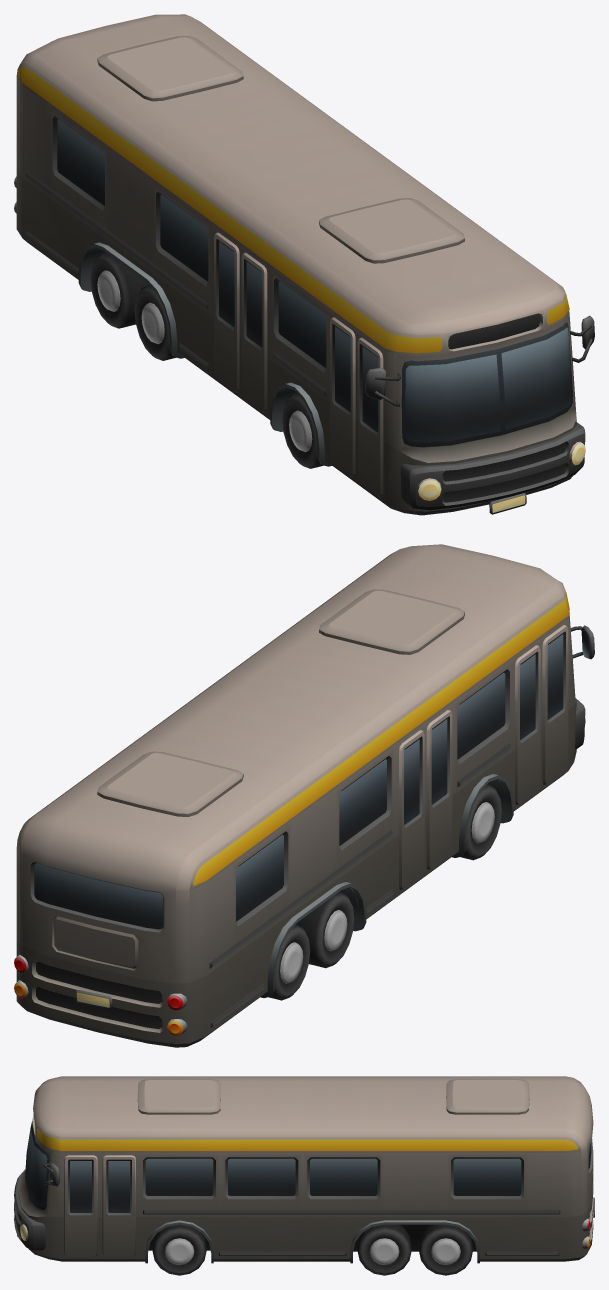
The model's file is Car_15B.fbx.
3 renders of one model, top to bottom at view 1: azimuth 30°, elevation 25°; view 2: azimuth 150°, elevation 25°; view 3: azimuth 270°, elevation 25°, orthographic. The views are drawn at different scales.
Parts seen in each view (by area): view 1: Car_15B, Wheel_15B_R.R, Wheel_15B_F.R, Wheel_15B_M.R; view 2: Car_15B, Wheel_15B_M.R, Wheel_15B_F.R, Wheel_15B_R.R; view 3: Car_15B, Wheel_15B_M.L, Wheel_15B_R.L, Wheel_15B_F.L.
Boxes of the visible parts, box(x1,y1,x2,y2) form: Car_15B: box(14, 14, 594, 515); Wheel_15B_R.R: box(90, 252, 148, 328); Wheel_15B_F.R: box(282, 393, 323, 468); Wheel_15B_M.R: box(134, 285, 175, 360); Car_15B: box(14, 544, 594, 1047); Wheel_15B_M.R: box(296, 892, 354, 968); Wheel_15B_F.R: box(460, 784, 501, 860); Wheel_15B_R.R: box(268, 924, 310, 1000); Car_15B: box(14, 1076, 594, 1263); Wheel_15B_M.L: box(357, 1224, 411, 1275); Wheel_15B_R.L: box(419, 1224, 472, 1275); Wheel_15B_F.L: box(152, 1224, 206, 1275).
Bounding box in the file's own units: 3.59 × 3.27 × 11.36.
